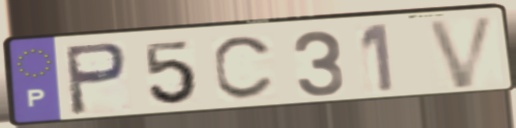1: (354, 21, 396, 97)
3: (291, 28, 346, 98)
5: (143, 38, 201, 108)
C: (210, 33, 277, 103)
P: (61, 40, 132, 117)
V: (423, 12, 501, 92)
